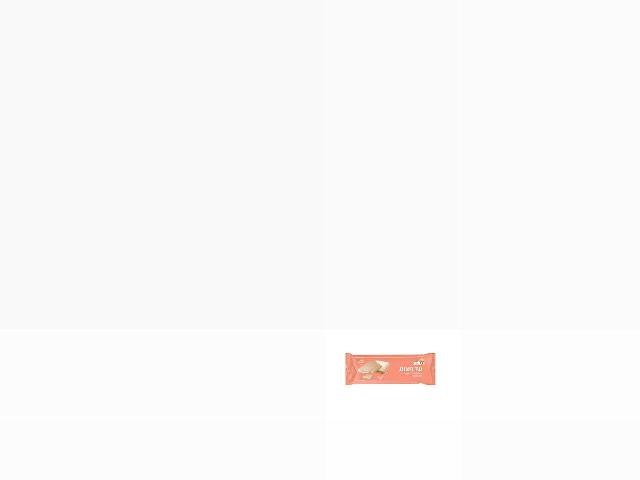chocolate: (345, 353, 439, 386)
